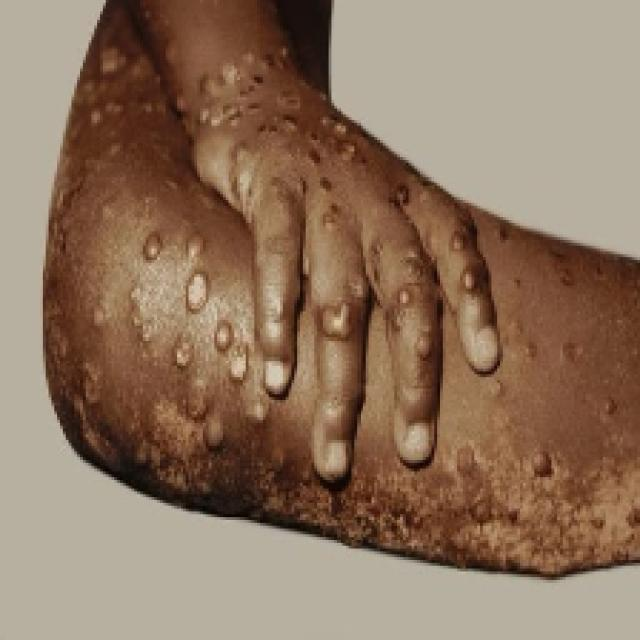Eczema: (202, 31, 483, 349), (71, 33, 265, 478), (399, 262, 638, 556)
